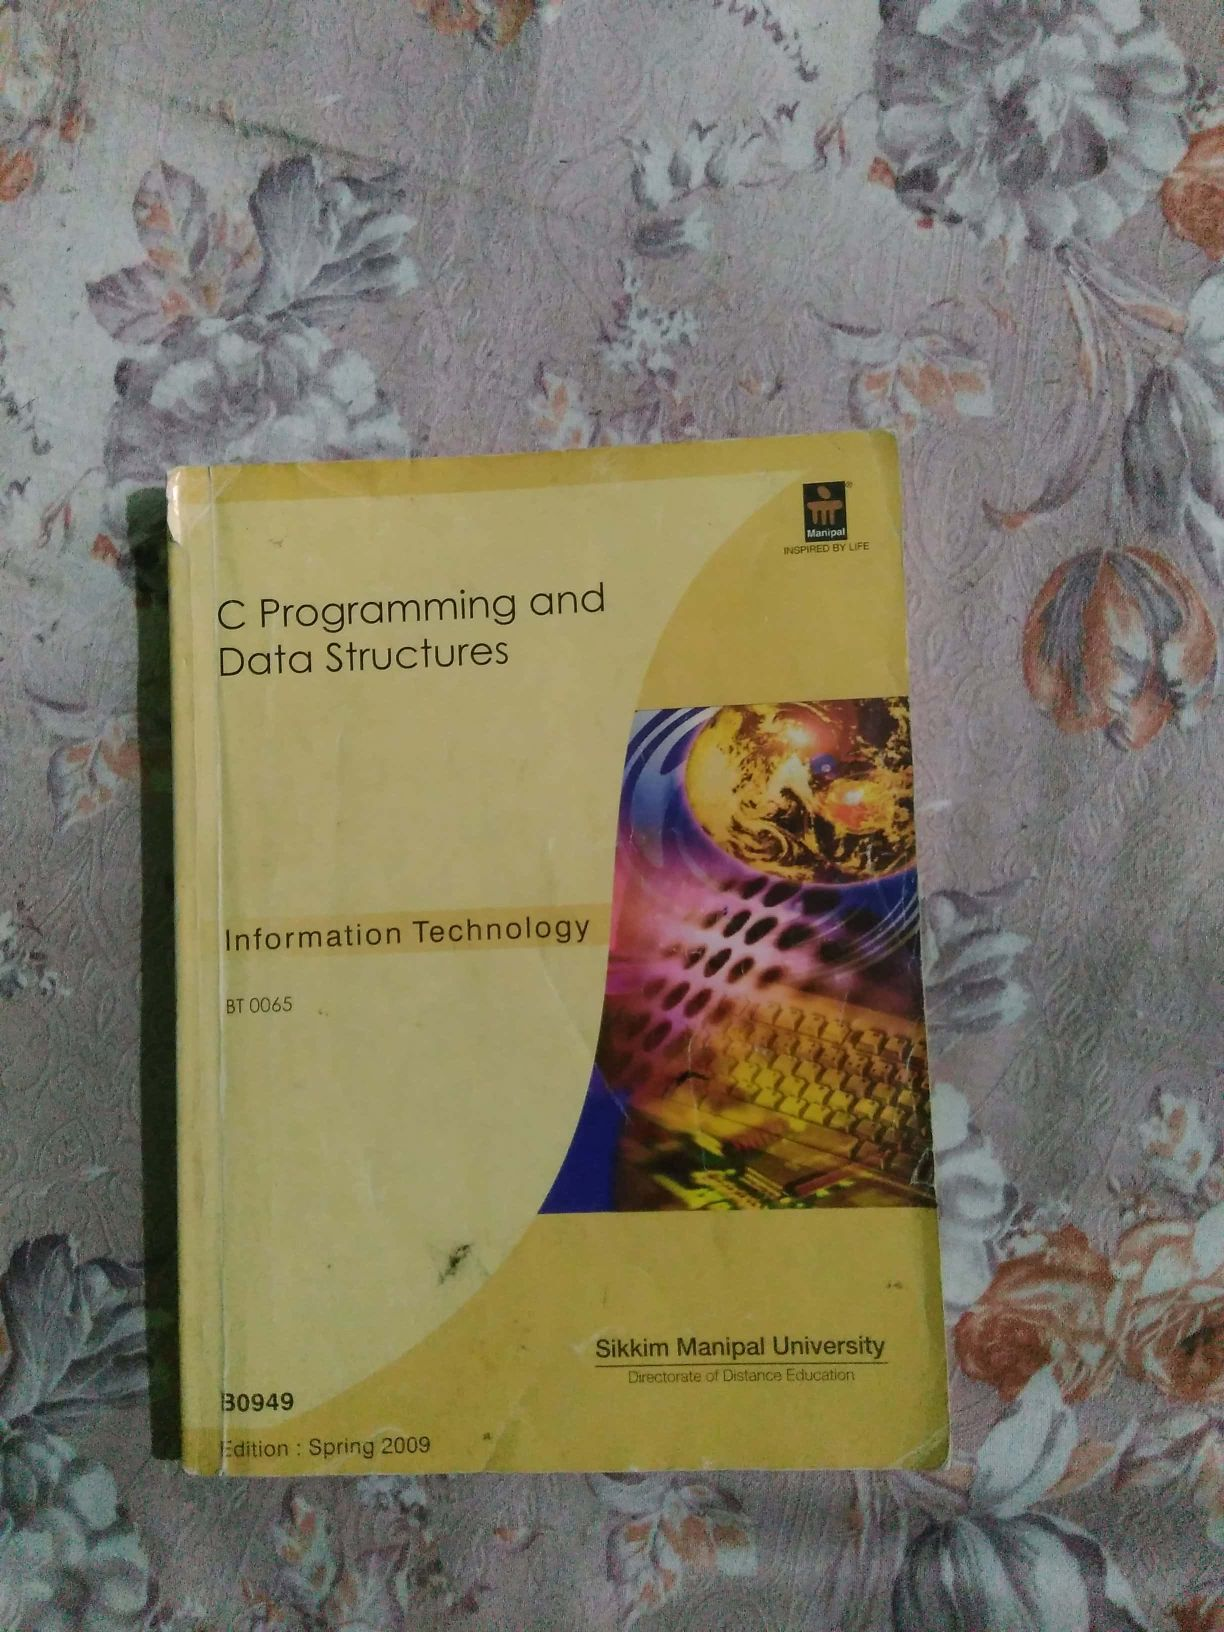clang: (107, 432, 981, 1512)
